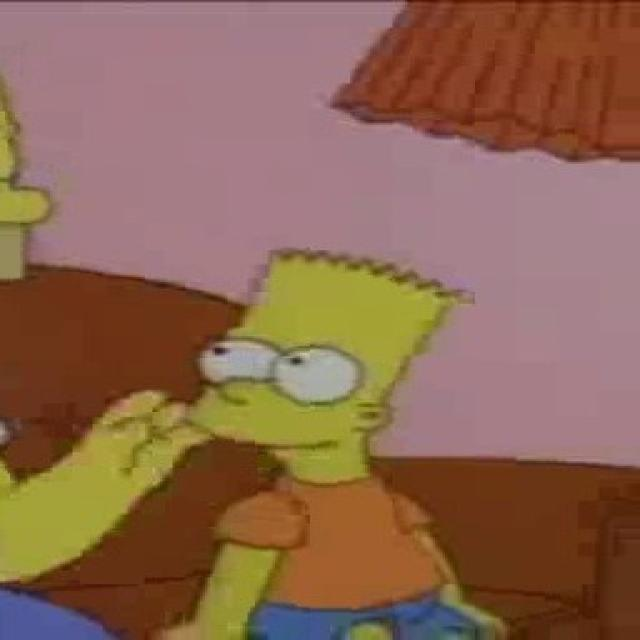Bart Simpson: (186, 248, 459, 485)
